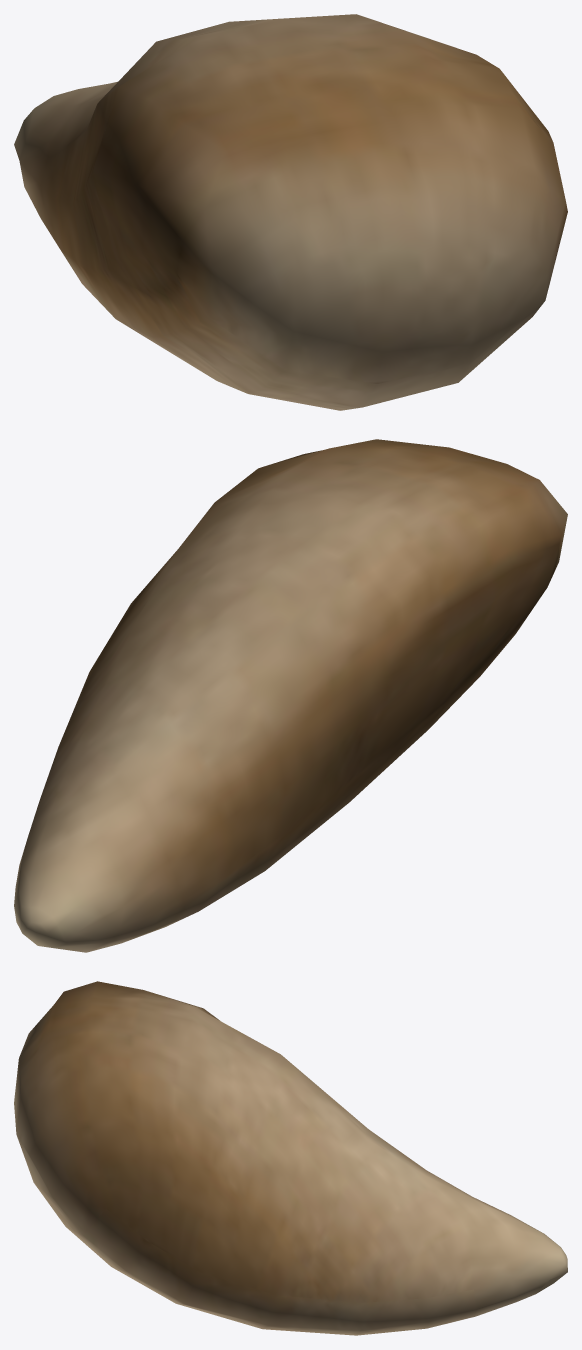
Rendered from Lower_Incisor2.glb.
3 views of the same model, one above another, from view 1: azimuth 30°, elevation 25°; view 2: azimuth 150°, elevation 25°; view 3: azimuth 270°, elevation 25° (orthographic). The views are drawn at different scales.
Parts seen in each view (by area): view 1: Lower_Incisor2; view 2: Lower_Incisor2; view 3: Lower_Incisor2.
Part boxes in pixels (box(x1,y1,x2,y2)): Lower_Incisor2: box(14, 14, 567, 410); Lower_Incisor2: box(14, 439, 567, 952); Lower_Incisor2: box(14, 981, 567, 1335).
Size of the model in its own units: 0.0203 by 0.0181 by 0.0337.
Materials: 1 (1 with a texture image).
